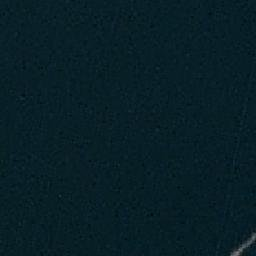debris: (231, 233, 256, 256)
